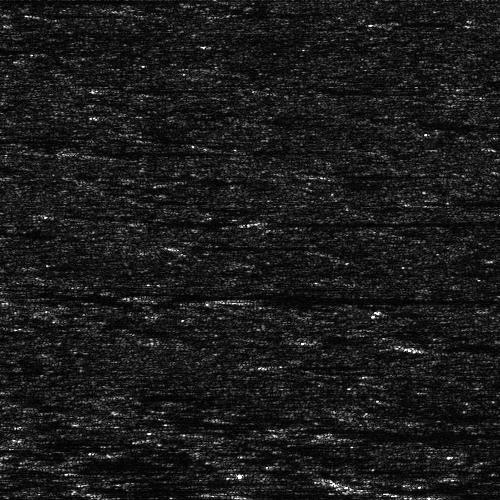object: (295, 429, 378, 440), (386, 340, 459, 349), (72, 391, 135, 398), (17, 11, 70, 16), (234, 297, 255, 300)
shadow: (336, 429, 500, 440), (0, 0, 190, 5), (104, 391, 224, 398), (245, 297, 500, 300), (423, 340, 500, 349), (44, 11, 104, 16)
